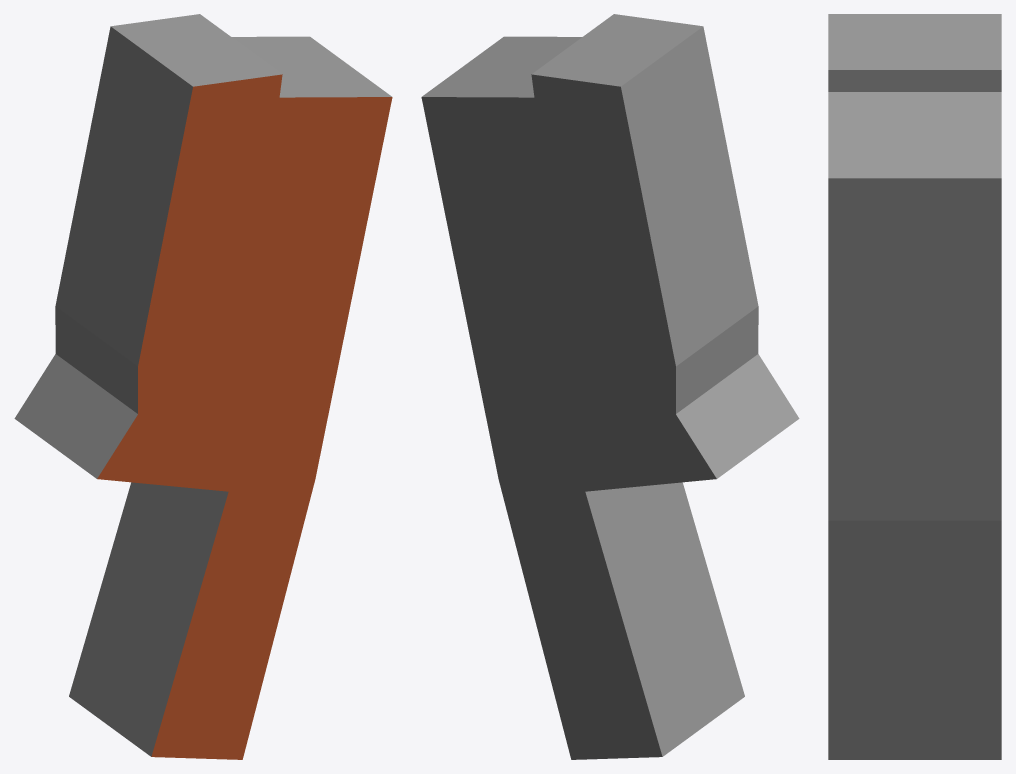
File: construction_1892_assumed_A_Casa_h6m.obj
The picture shows the model from 3 angles, left to right: view 1: azimuth 30°, elevation 25°; view 2: azimuth 150°, elevation 25°; view 3: azimuth 270°, elevation 25°; orthographic projection. The views are drawn at different scales.
Visible parts, largest first — view 1: construction_1892_assumed_A_Casa; view 2: construction_1892_assumed_A_Casa; view 3: construction_1892_assumed_A_Casa.
Boxes of the visible parts, bbox=[...] form: construction_1892_assumed_A_Casa: bbox=[14, 14, 392, 759]; construction_1892_assumed_A_Casa: bbox=[421, 14, 799, 759]; construction_1892_assumed_A_Casa: bbox=[828, 14, 1001, 759].
Size of the model in its own units: 12.4 by 27.48 by 6.
